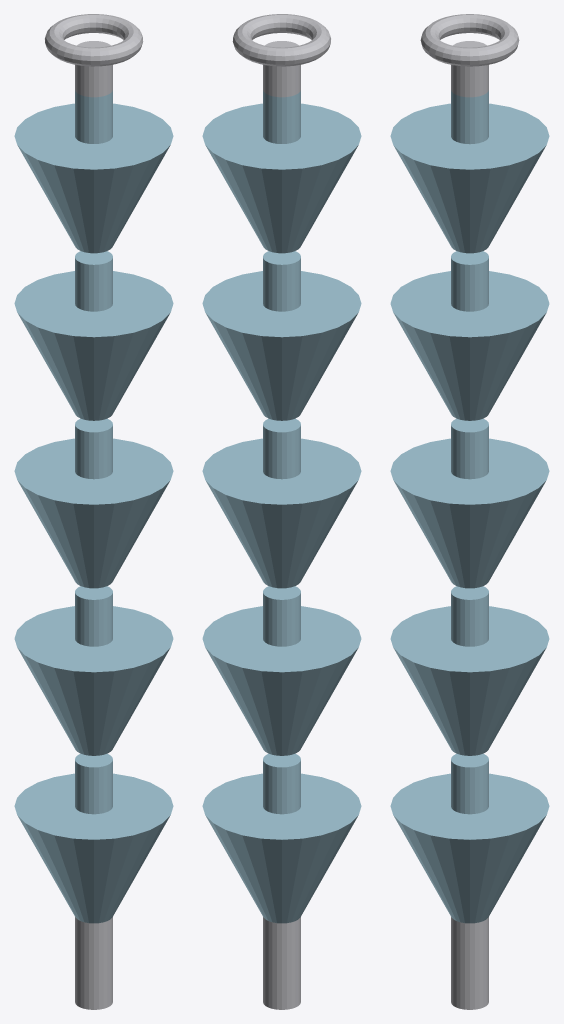
Rendered from Cadena_673mm.fbx.
3 renders of one model, left to right at view 1: azimuth 30°, elevation 25°; view 2: azimuth 150°, elevation 25°; view 3: azimuth 270°, elevation 25°, orthographic.
Visible parts, largest first — view 1: Cadena_673mm; view 2: Cadena_673mm; view 3: Cadena_673mm.
Boxes of the visible parts, x1=… form: Cadena_673mm: x1=14, y1=14, x2=173, y2=1009; Cadena_673mm: x1=202, y1=14, x2=361, y2=1009; Cadena_673mm: x1=390, y1=14, x2=549, y2=1009.
Size of the model in its own units: 10 by 67.3 by 10.
